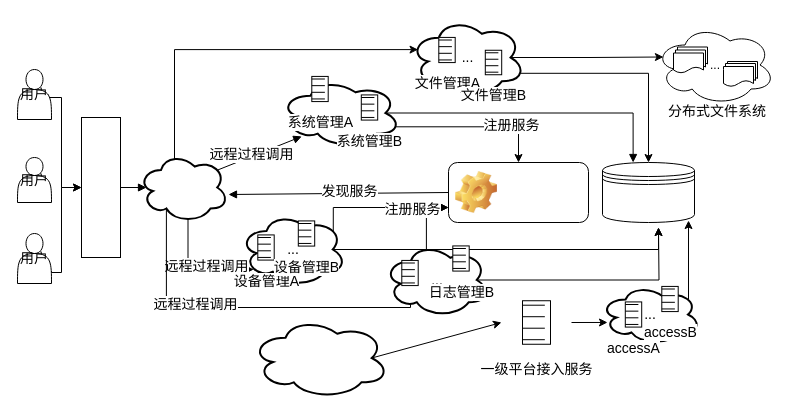
Some shapes in this 794 by 417 pixel diagram are drawn without their labels. The shapes that lost their labels are listed below. From the top down, each one's centre as x and y in pixels, then its label:
At point (100, 187): "WEB接入".
At point (183, 187): "WEB接入 API服务".
At point (518, 192): "服务注册中心".
At point (648, 192): "数据存储".
At point (409, 273): "日志管理A".
At point (320, 357): "一级平台".
